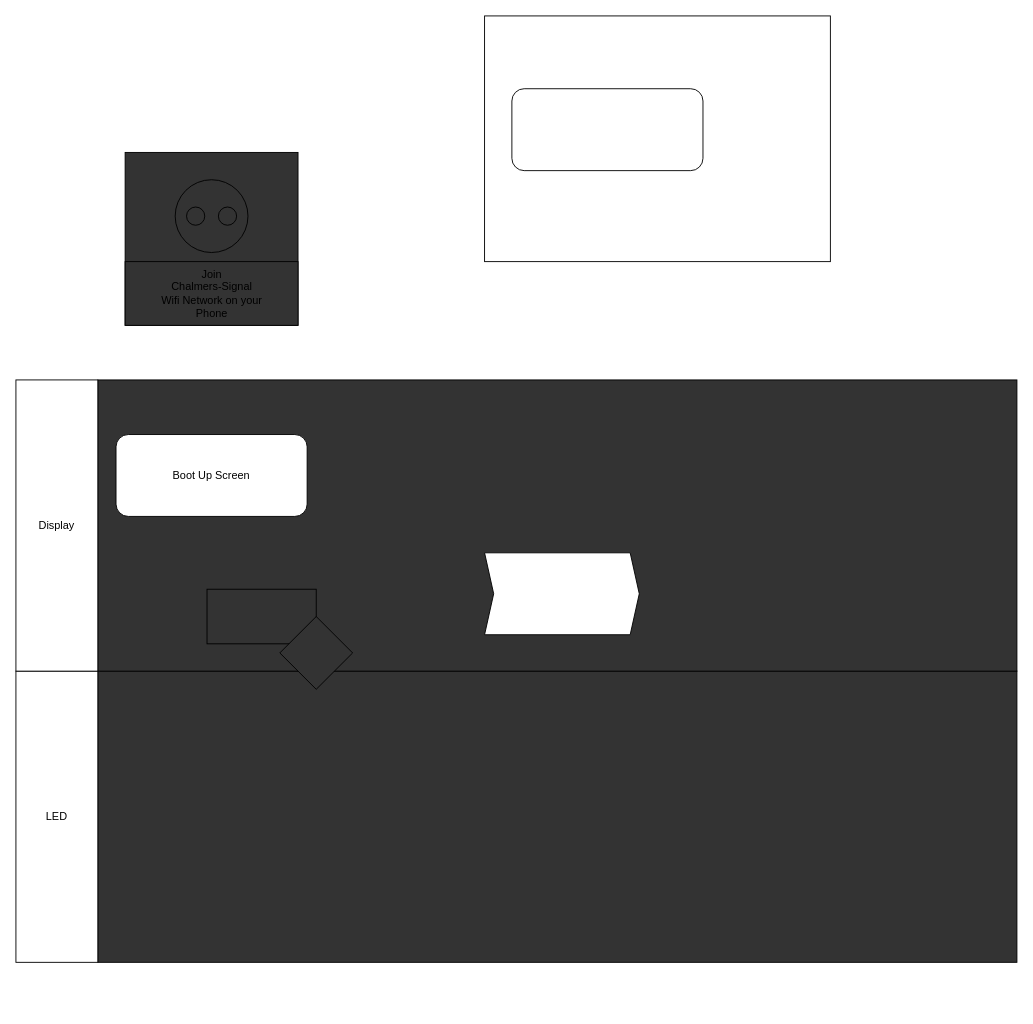
Image size: 1033x1024. Some labels were removed from this diagram. Here are the shapes that lost their labels. From the top down, the box of each, then its label:
(206, 588, 316, 644): Start Wifi Manager
(279, 616, 353, 689): Wifi Connected
